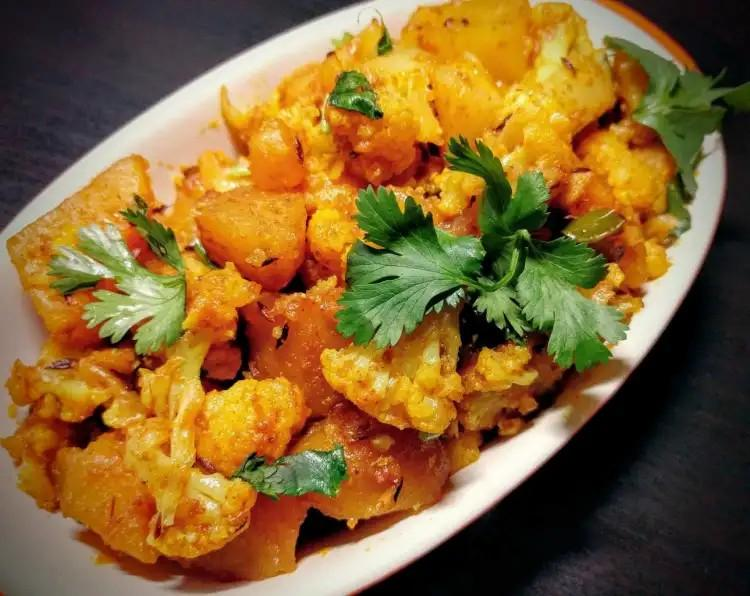AlooGobi: (0, 0, 680, 578)
